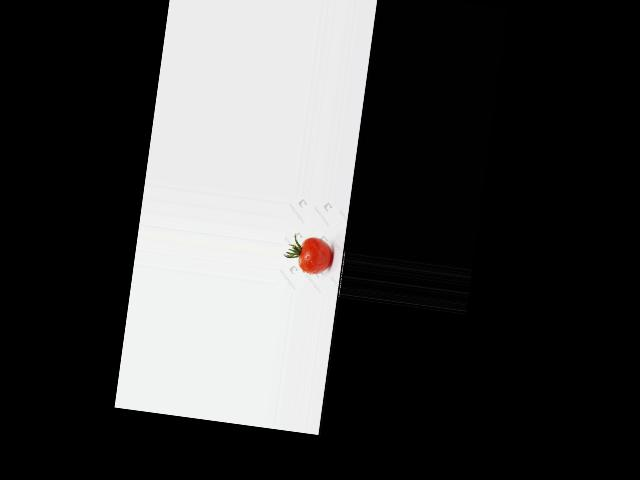tomato: (297, 235, 334, 275)
